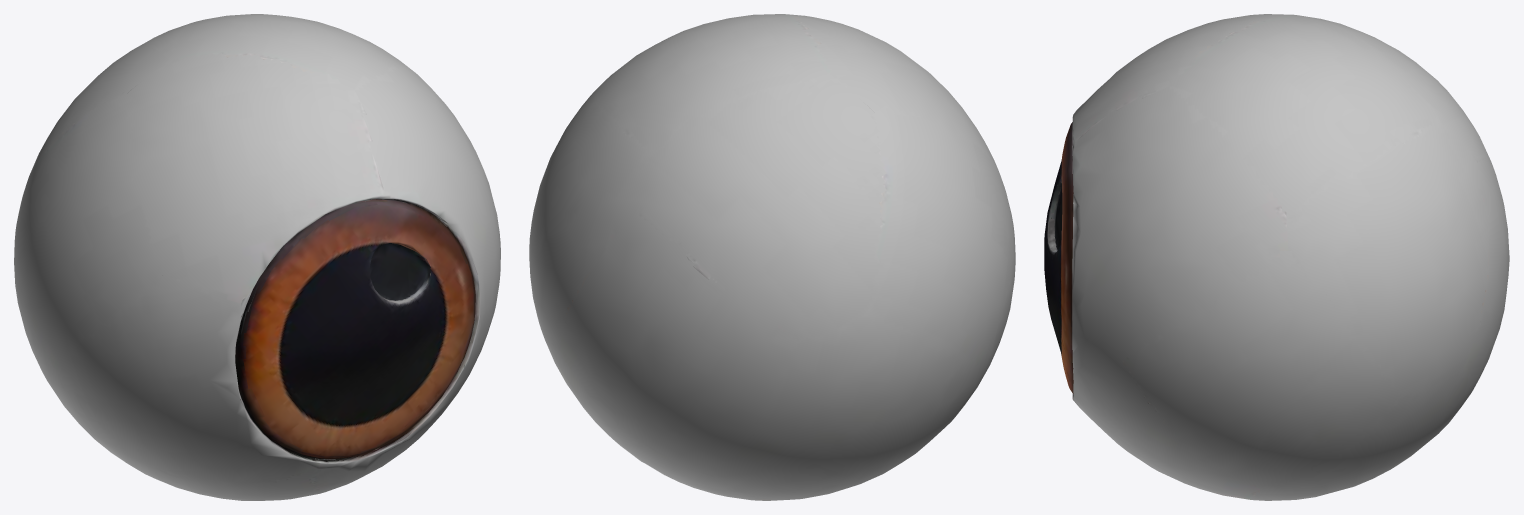
Rendered from ojo.glb.
The picture shows the model from 3 angles, left to right: view 1: azimuth 30°, elevation 25°; view 2: azimuth 150°, elevation 25°; view 3: azimuth 270°, elevation 25°; orthographic projection.
Parts seen in each view (by area): view 1: tripo_node_3d1a759e; view 2: tripo_node_3d1a759e; view 3: tripo_node_3d1a759e.
Part boxes in pixels (<box>): tripo_node_3d1a759e: <box>14,14,500,500</box>; tripo_node_3d1a759e: <box>529,14,1015,500</box>; tripo_node_3d1a759e: <box>1044,14,1509,500</box>.
Bounding box in the file's own units: 0.9774 × 0.9781 × 0.9319.
1 material, 1 textured.
